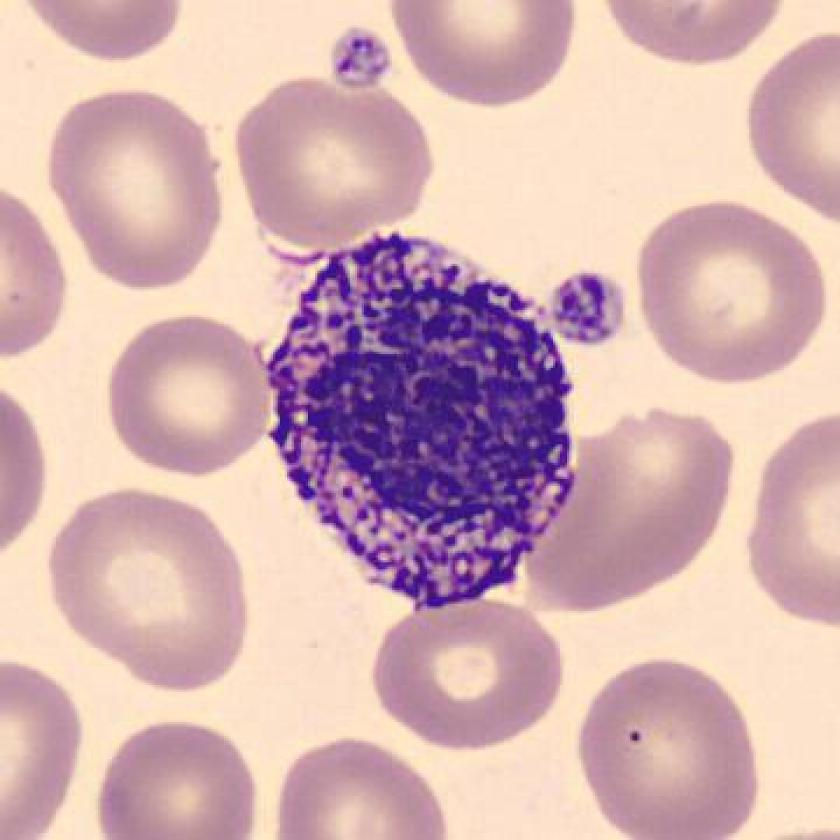basophil: (267, 219, 587, 617)
